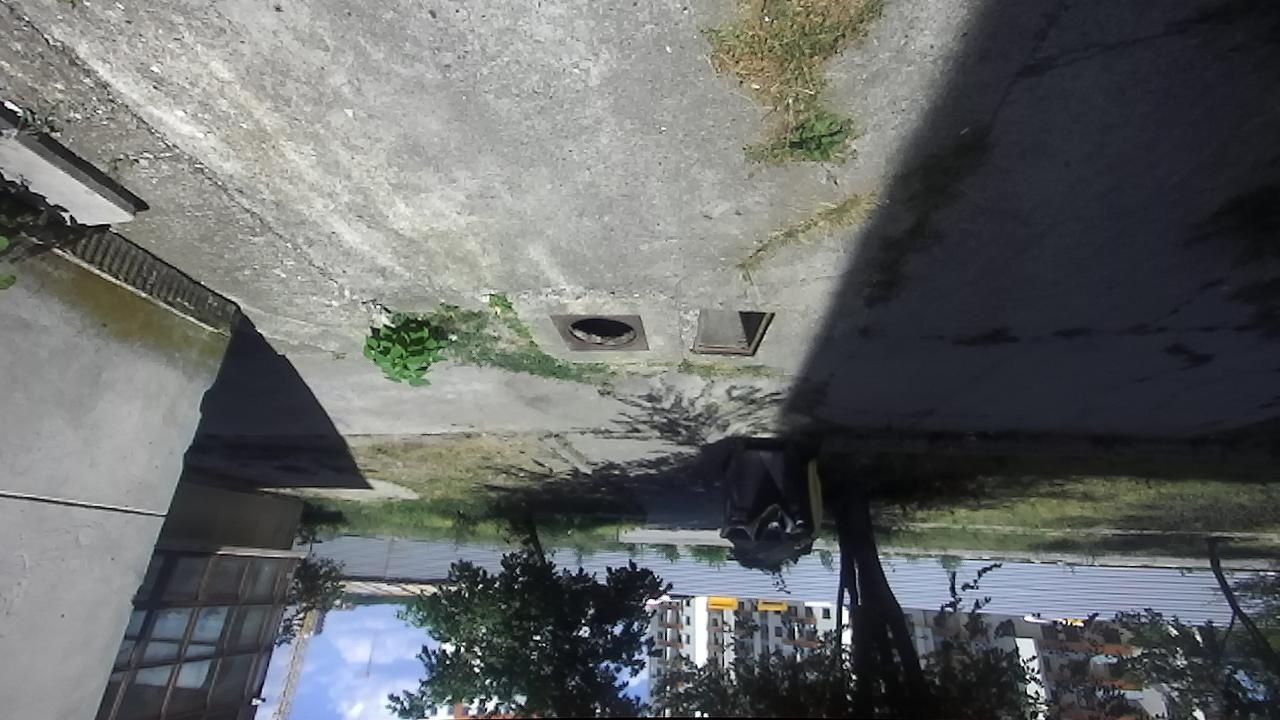drain: (691, 308, 777, 358), (564, 316, 642, 349)
